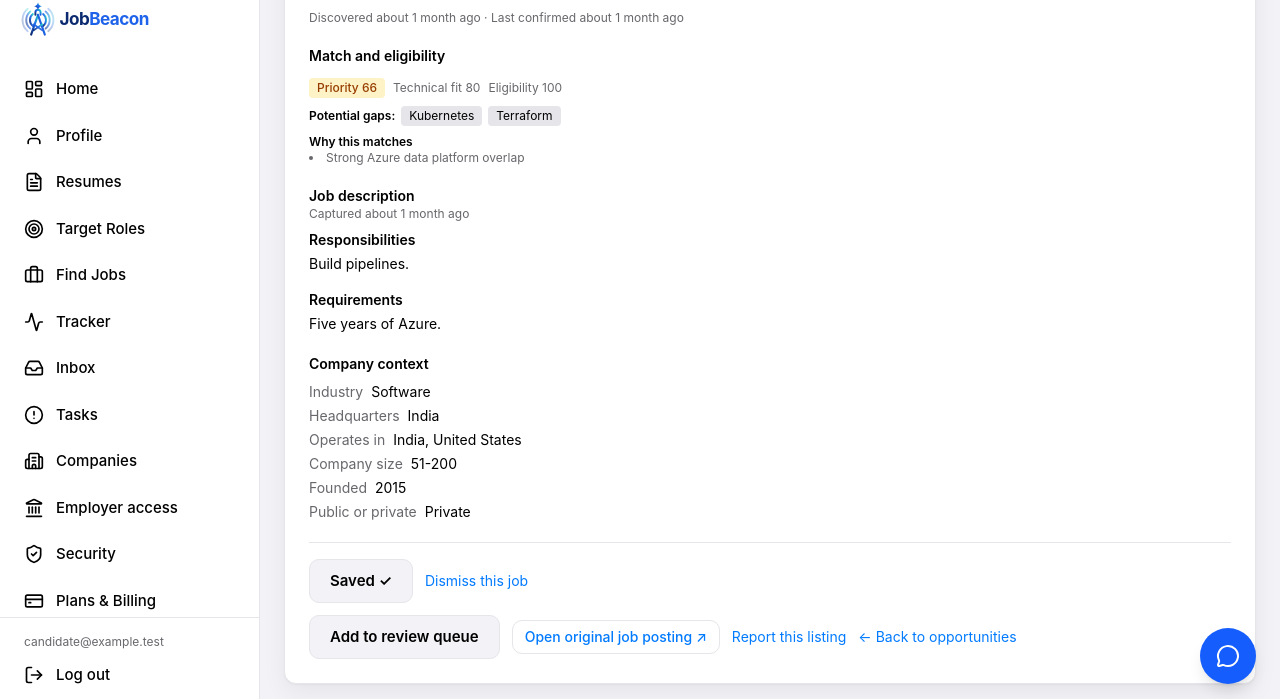
Scenario: #/jobs/:jobId › dismisses the job with a reason and can undo it
(page scrolled)
Click the button "Dismiss this job" at coordinates (476, 581), box [425,571,528,591]
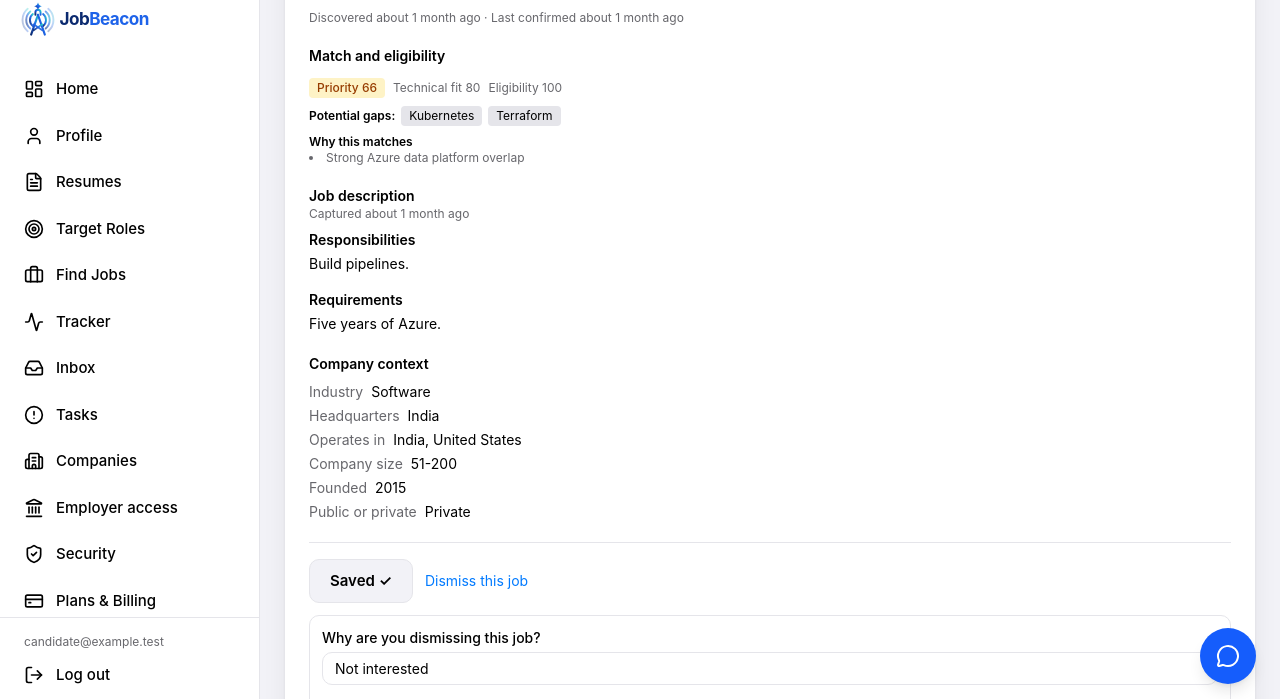
Select "Wrong location" in the dropdown labelled "Why are you dismissing this job?" at coordinates (770, 668), box [322,652,1218,685]
(page scrolled)
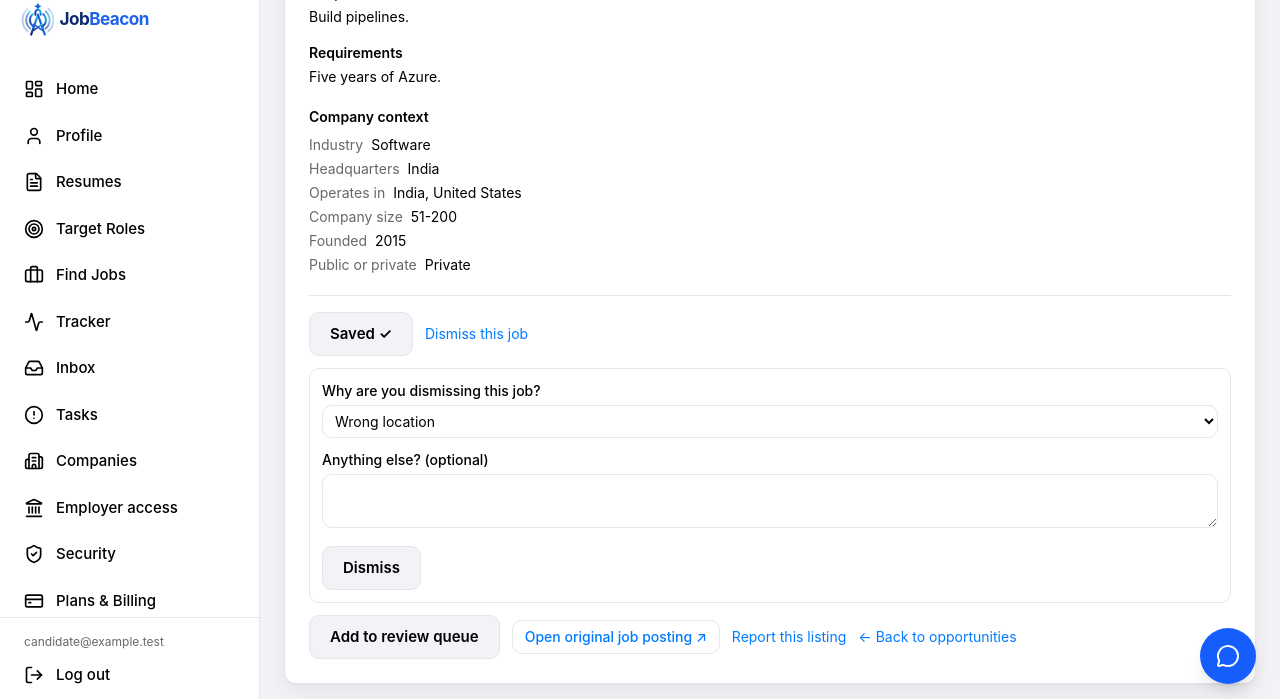
Type "Too far." into the text box labelled "Anything else? (optional)" at coordinates (770, 501), box [322,474,1218,528]
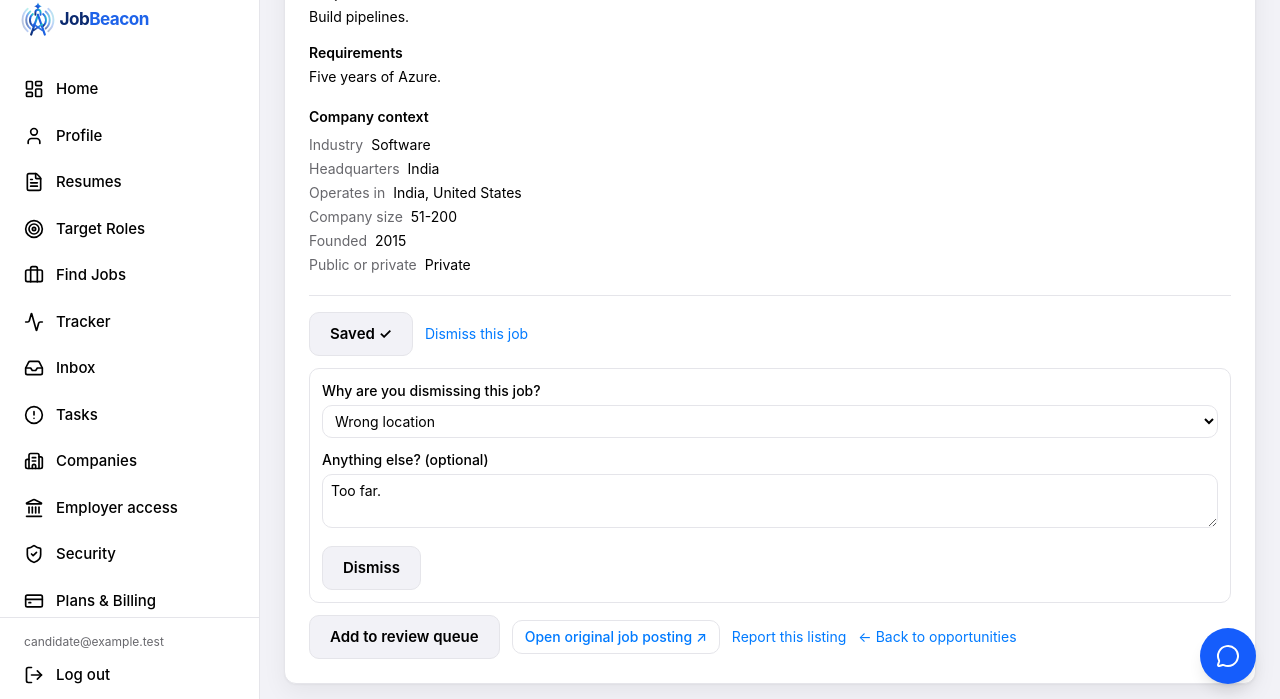
Click the button "Dismiss" at coordinates (371, 568), box [322,546,421,590]
(page scrolled)
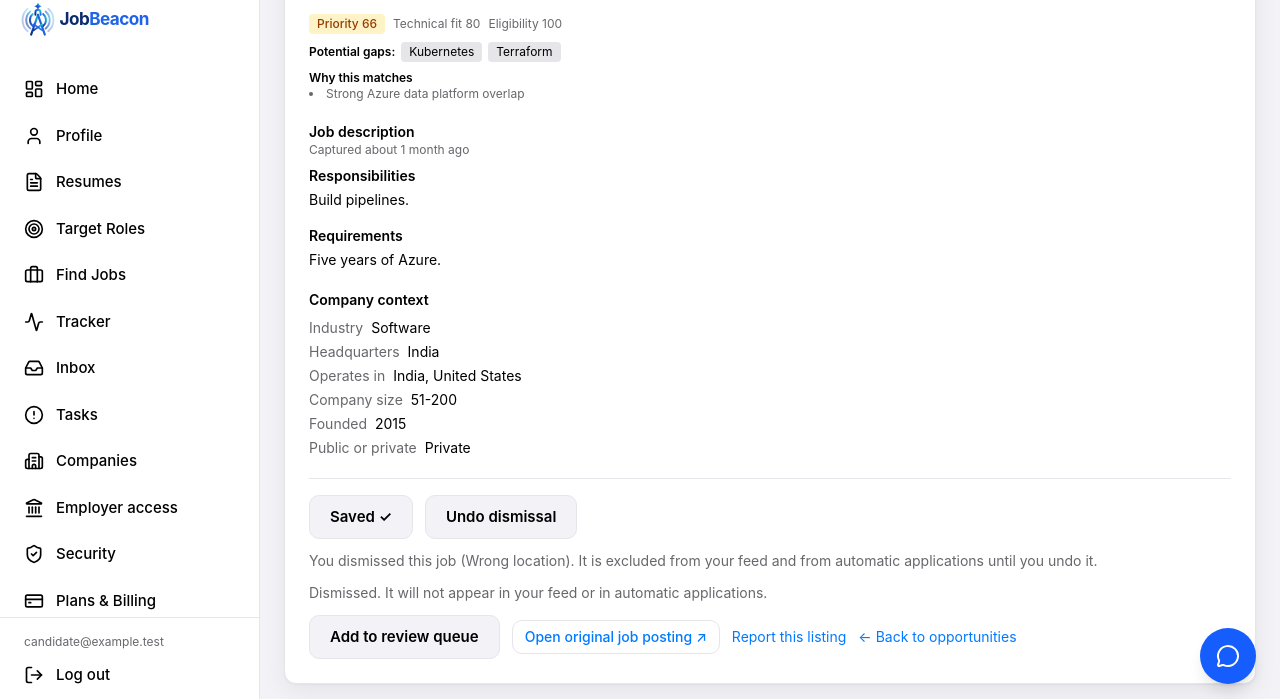
Now the text "Dismissed. It will not appear in your feed or in automatic applications." is shown, box [309,584,767,601]
Click the button "Undo dismissal" at coordinates (501, 517), box [425,495,577,539]
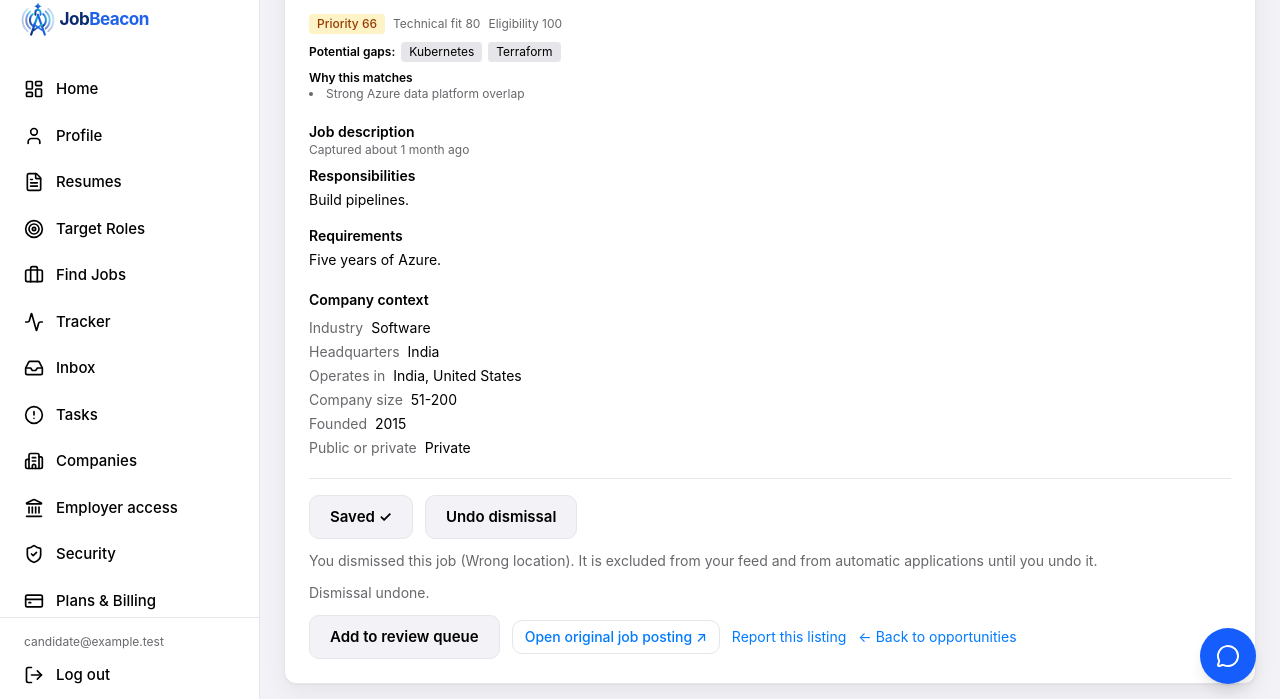
Now the text "Dismissal undone." is shown, box [309,584,430,601]
